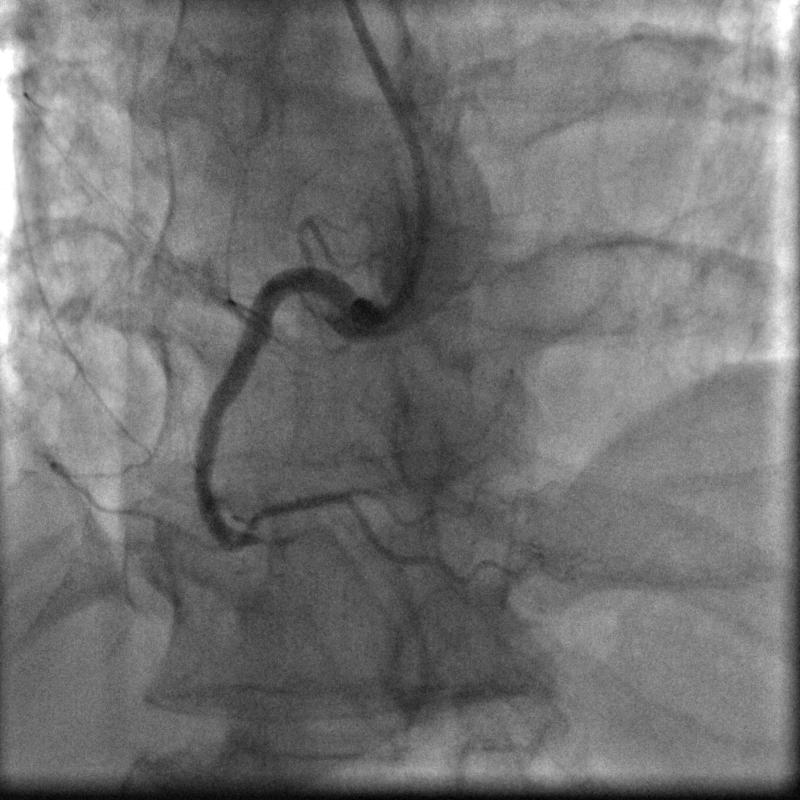Stenosis: (233, 524, 286, 555)
